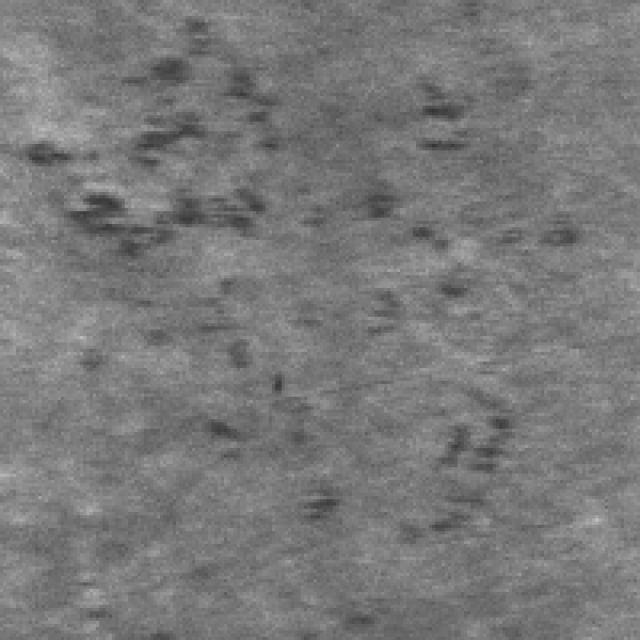rolled-in_scale: (332, 67, 538, 557), (9, 7, 284, 250), (138, 362, 355, 524)
